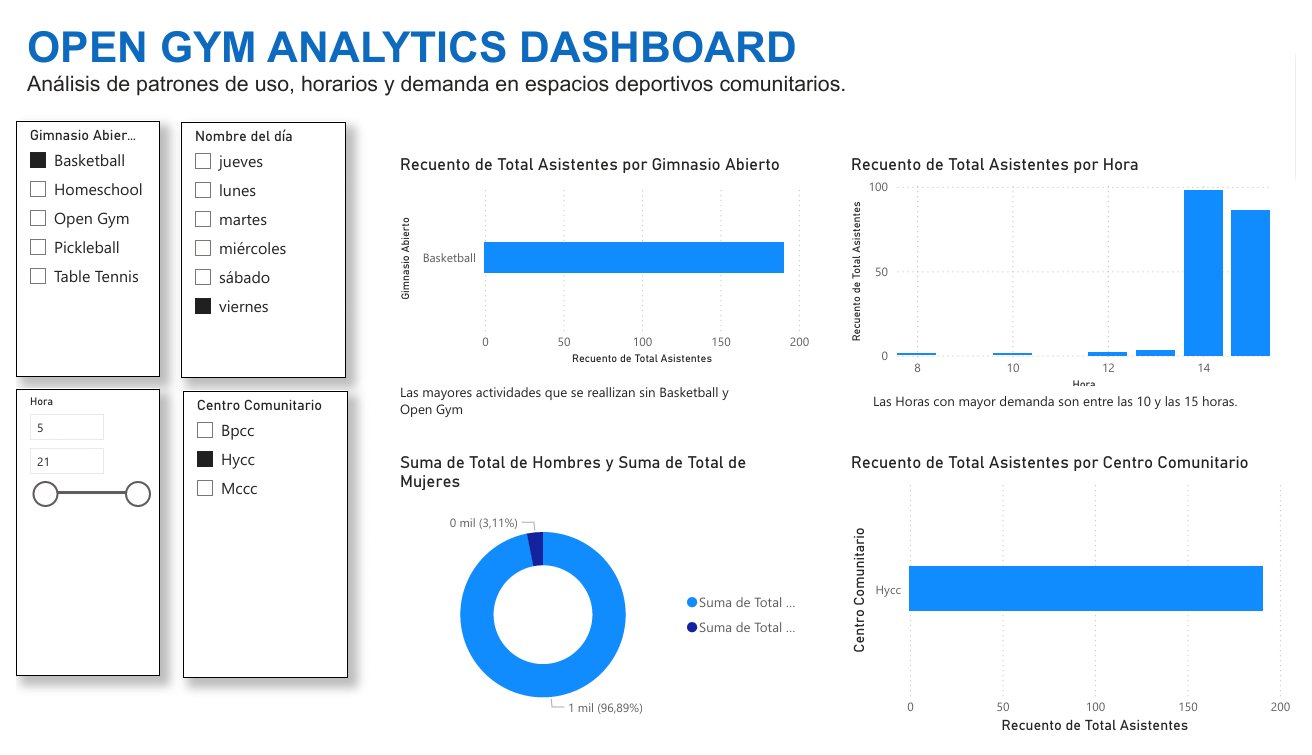

The page's visual inventory and layout, read from the dashboard file:
{"tool":"powerbi","page":{"name":"Página 1","canvas":[1280,720],"ordinal":0},"visuals":[{"type":"clusteredBarChart","fields":{"Category":["open-gym.Gimnasio Abierto"],"Y":["CountNonNull(open-gym.Total Asistentes)"]},"box":[379.1,136.5,418.9,214.2],"z":0},{"type":"clusteredColumnChart","fields":{"Category":["open-gym.Hora"],"Y":["CountNonNull(open-gym.Total Asistentes)"]},"box":[830.2,136.5,428.4,240.7],"z":1000},{"type":"textbox","box":[379.1,360.1,363.9,72],"z":2000},{"type":"textbox","box":[851.7,368.8,384,64.6],"z":3000},{"type":"clusteredBarChart","fields":{"Category":["open-gym.Centro Comunitario"],"Y":["CountNonNull(open-gym.Total Asistentes)"]},"box":[830.2,434,449.2,286.2],"z":4000},{"type":"donutChart","fields":{"Y":["Sum(open-gym.Total de Hombres)","Sum(open-gym.Total de Mujeres)"]},"box":[379.1,434,418.9,286.2],"z":5000},{"type":"textbox","box":[5.7,0,1273.7,122.8],"z":6000},{"type":"slicer","fields":{"Values":["open-gym.Nombre del día"]},"box":[164.9,104.2,164.9,255.9],"z":7000},{"type":"slicer","fields":{"Values":["open-gym.Gimnasio Abierto"]},"box":[0,102.7,144.5,256.6],"z":8000},{"type":"slicer","fields":{"Values":["open-gym.Centro Comunitario"]},"box":[166.8,373.4,164.9,286.2],"z":9000},{"type":"slicer","fields":{"Values":["open-gym.Hora"]},"box":[0,371.5,144,286.2],"z":10000}]}

Visuals, with their boxes in screenshot pixels (x1, y1, x2, y2), scaled from the page's 1280x720 canvas onto the 1312x755 screenshot:
clusteredBarChart - open-gym.Gimnasio Abierto x CountNonNull(open-gym.Total Asistentes): l=389, t=143, r=818, b=368
clusteredColumnChart - open-gym.Hora x CountNonNull(open-gym.Total Asistentes): l=851, t=143, r=1290, b=396
textbox: l=389, t=378, r=762, b=453
textbox: l=873, t=387, r=1267, b=454
clusteredBarChart - open-gym.Centro Comunitario x CountNonNull(open-gym.Total Asistentes): l=851, t=455, r=1311, b=754
donutChart - Sum(open-gym.Total de Hombres) x Sum(open-gym.Total de Mujeres): l=389, t=455, r=818, b=754
textbox: l=6, t=0, r=1311, b=129
slicer - open-gym.Nombre del día: l=169, t=109, r=338, b=378
slicer - open-gym.Gimnasio Abierto: l=0, t=108, r=148, b=377
slicer - open-gym.Centro Comunitario: l=171, t=392, r=340, b=692
slicer - open-gym.Hora: l=0, t=390, r=148, b=690
